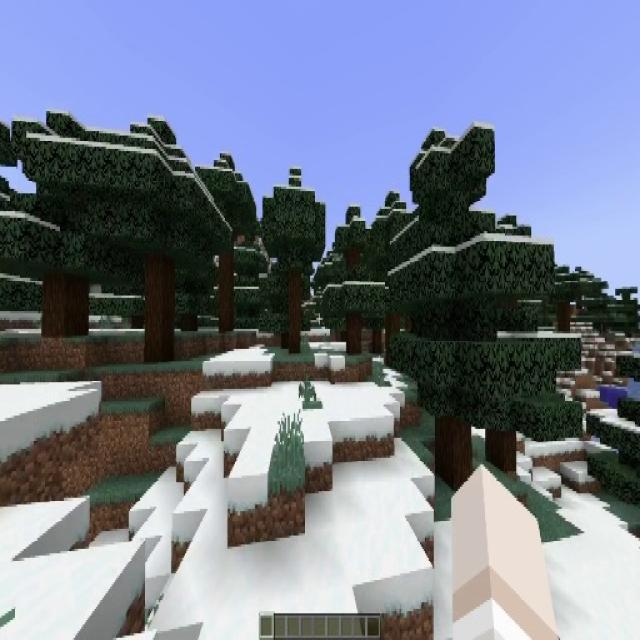spruce: (392, 124, 513, 489), (446, 213, 578, 476), (92, 103, 211, 362), (2, 106, 110, 342), (260, 168, 328, 360), (198, 146, 260, 336), (323, 207, 385, 358)
spruce_log: (146, 250, 172, 362), (43, 276, 87, 341), (437, 419, 471, 486), (486, 426, 516, 472), (219, 252, 233, 331), (290, 282, 302, 351), (347, 314, 363, 356), (558, 304, 570, 332), (372, 330, 382, 352), (388, 315, 399, 333)
